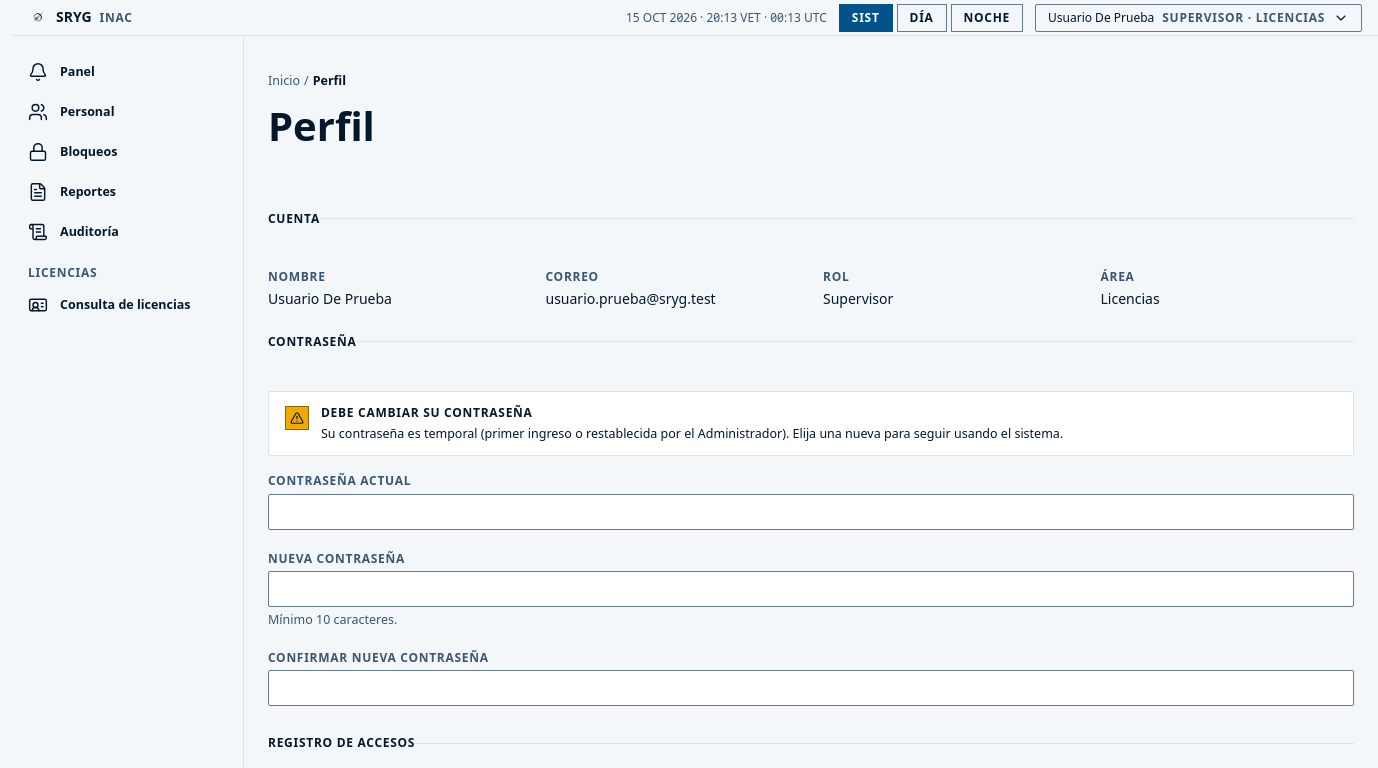
Test: Perfil (AUTH-08, D4, D23) › forces the change after a reset and sends the user to the panel once it is done
Expected: the text "Debe cambiar su contraseña" is shown, [321, 404, 533, 421]
In the password field labelled "Contraseña actual": (811, 512) [268, 494, 1354, 530], type "temporal-123"
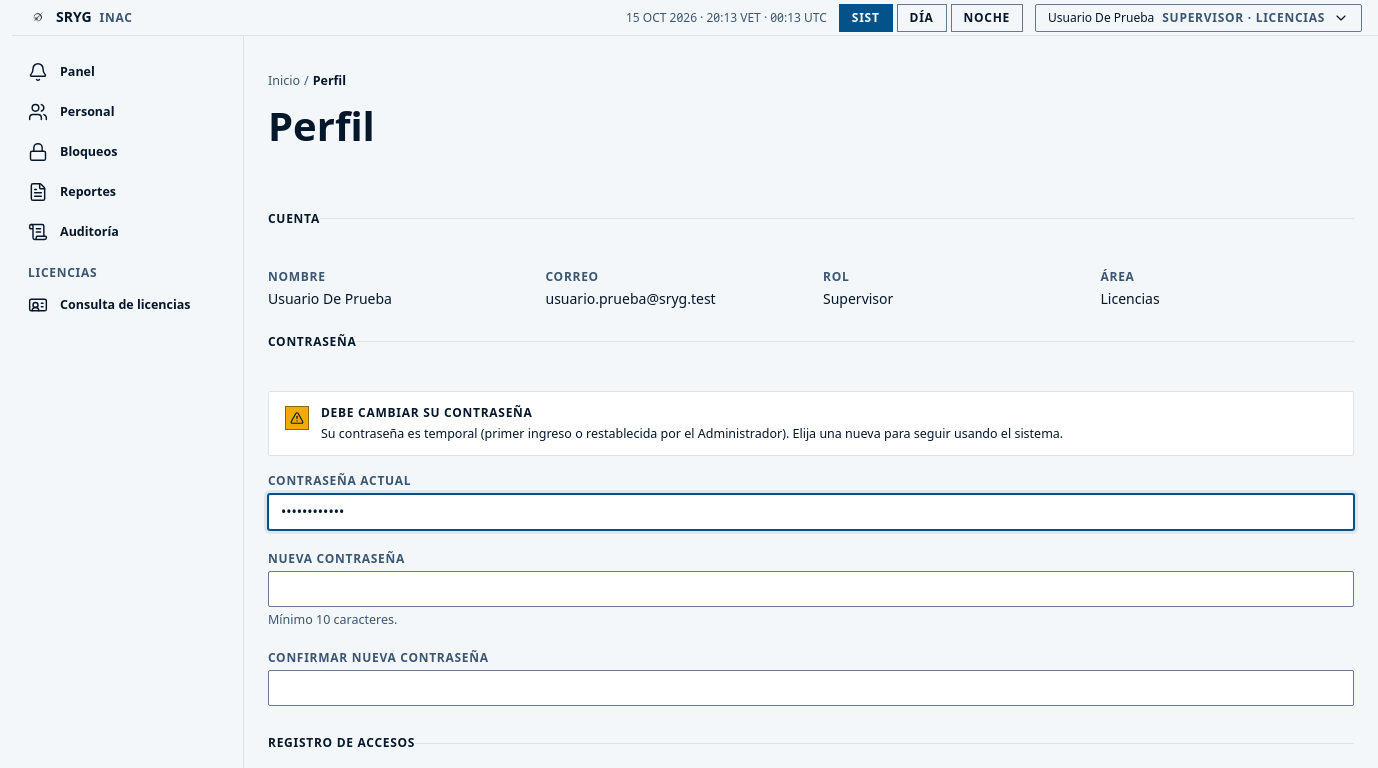
In the password field labelled "Nueva contraseña": (811, 589) [268, 571, 1354, 607], type "mi-clave-nueva"
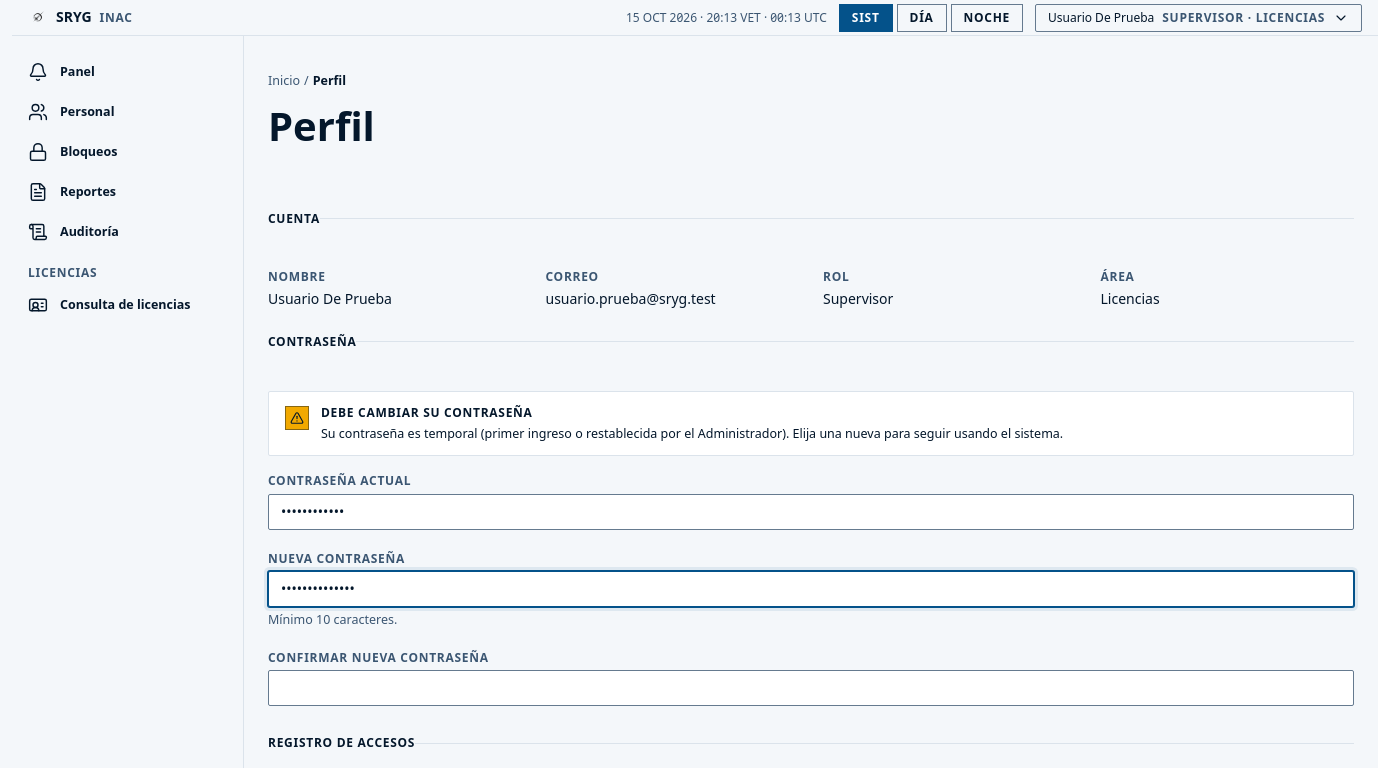
In the password field labelled "Confirmar nueva contraseña": (811, 688) [268, 670, 1354, 706], type "mi-clave-nueva"
(page scrolled)
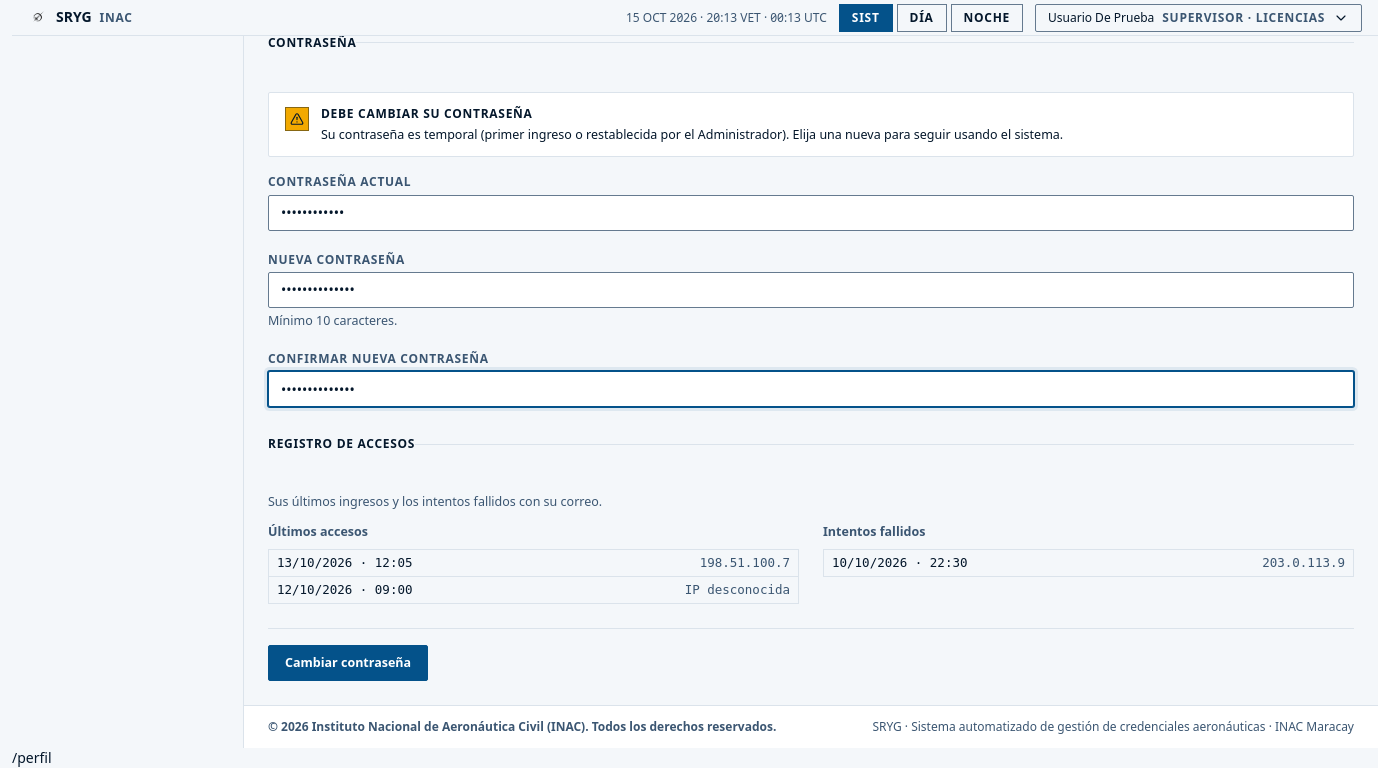
Click the button "Cambiar contraseña": (348, 663) [268, 645, 428, 681]
(page scrolled)
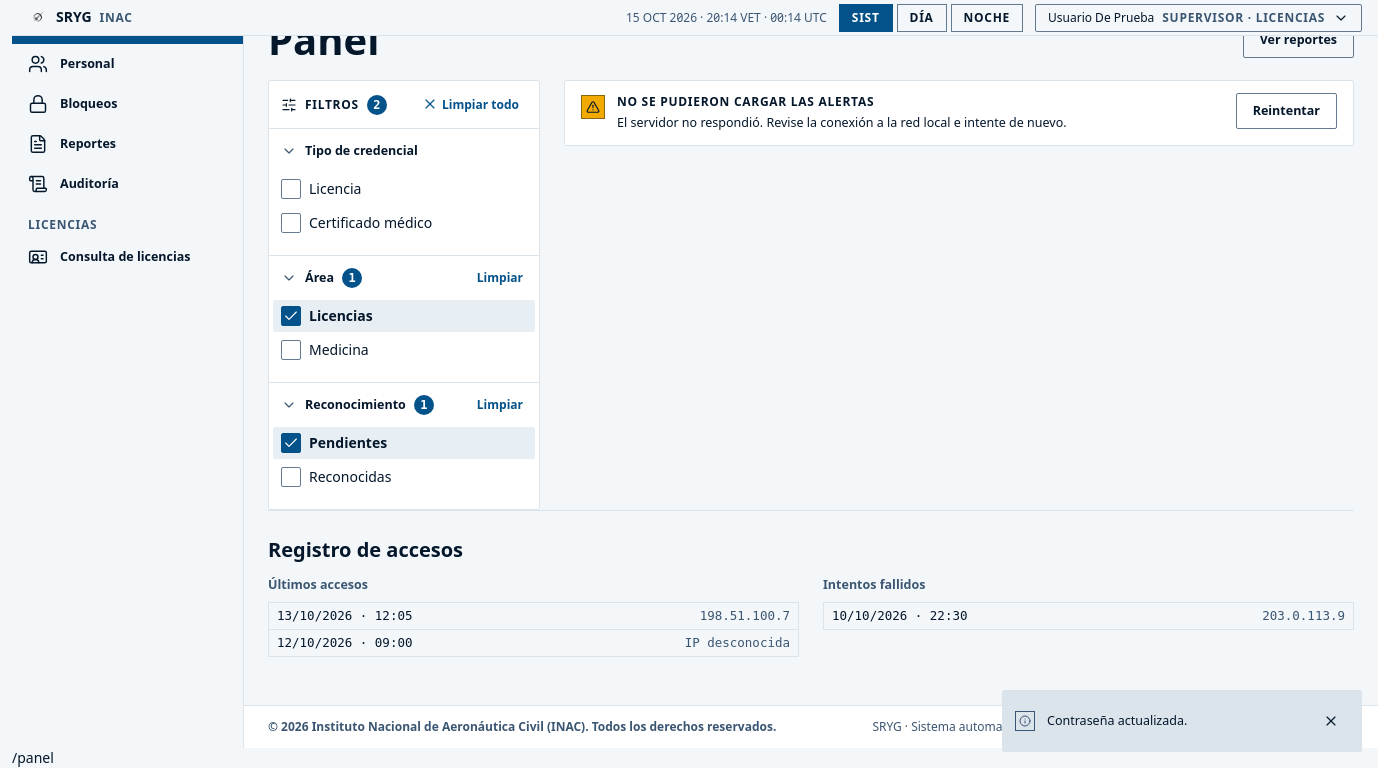
Expected: the text "Contraseña actualizada." is shown, [1047, 712, 1187, 729]
Expected: the text with test id "location" reads "/panel", [12, 748, 54, 767]
Expected: the text "Debe cambiar su contraseña" is gone
